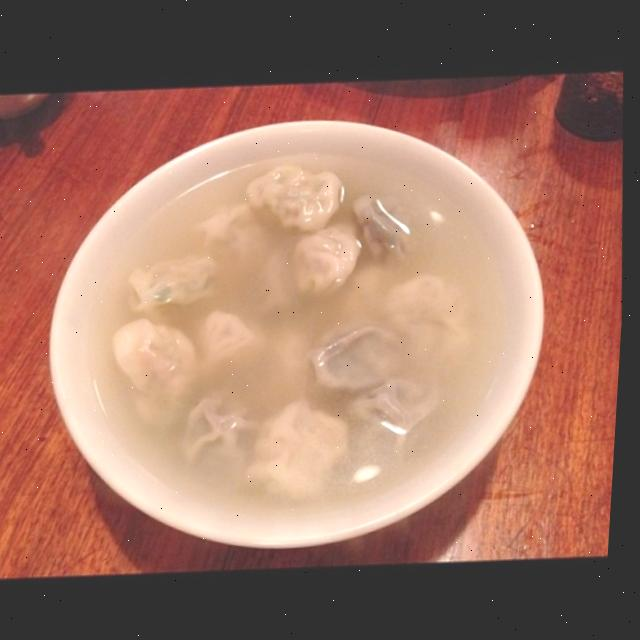带馅早点: (31, 71, 574, 549)
